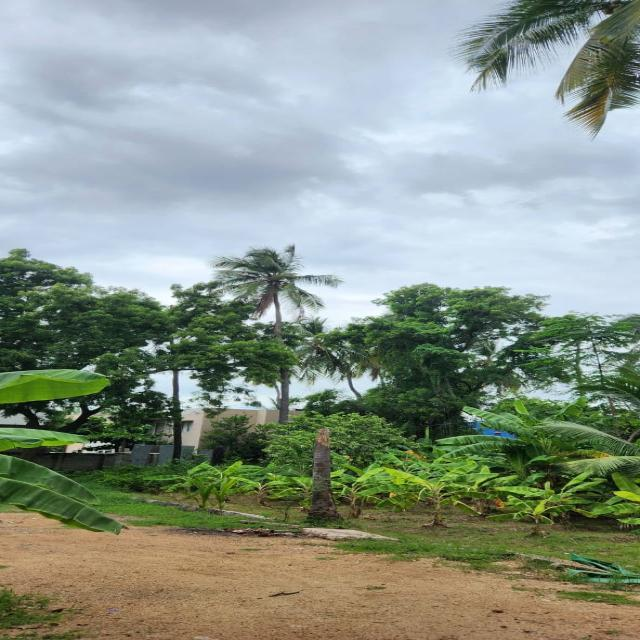Coconut-tree: (458, 5, 640, 155), (231, 245, 324, 373)
